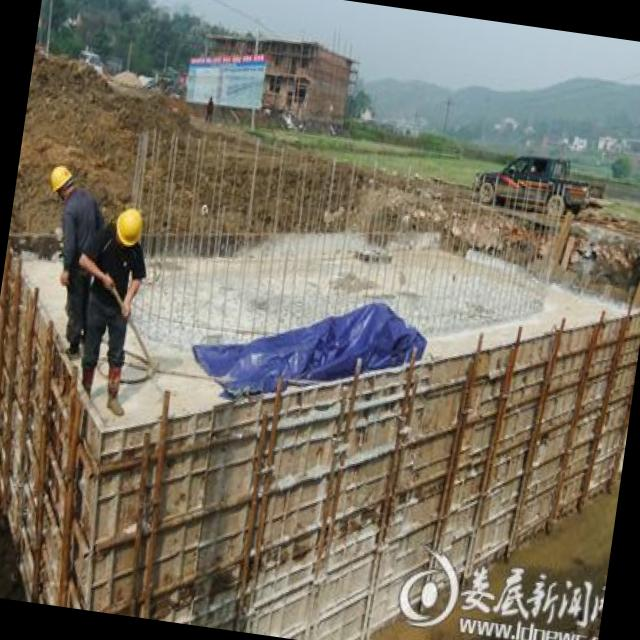helmet: (106, 202, 150, 260), (44, 158, 82, 210)
